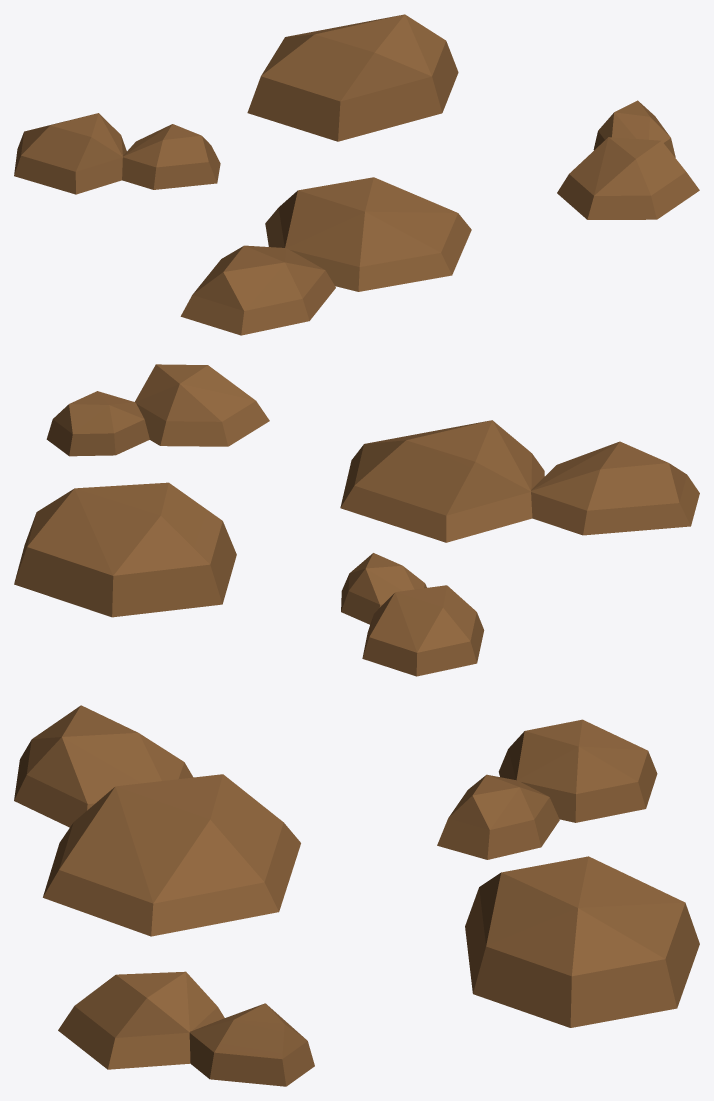
The model's file is rock__pebbles1_dirt_medium.glb.
3 views of the same model, one above another, from view 1: azimuth 30°, elevation 25°; view 2: azimuth 150°, elevation 25°; view 3: azimuth 270°, elevation 25° (orthographic). The views are drawn at different scales.
Visible parts, largest first — view 1: pebbles1.dirt.medium; view 2: pebbles1.dirt.medium; view 3: pebbles1.dirt.medium.
Boxes of the visible parts, x1,y1,x2,y2 form: pebbles1.dirt.medium: (14,14,699,335); pebbles1.dirt.medium: (14,364,699,676); pebbles1.dirt.medium: (14,705,699,1086).
Bounding box in the file's own units: 1.96 × 0.241 × 1.65.
Materials: 1 (1 with a texture image).
